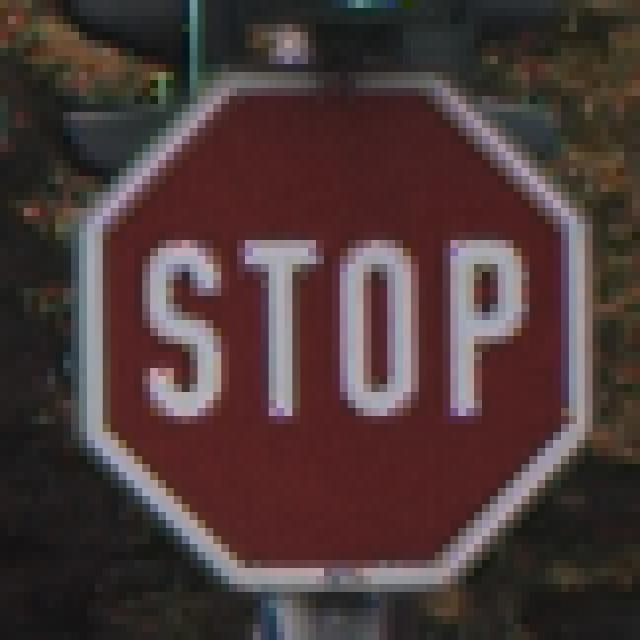STOP: (64, 57, 586, 585)
